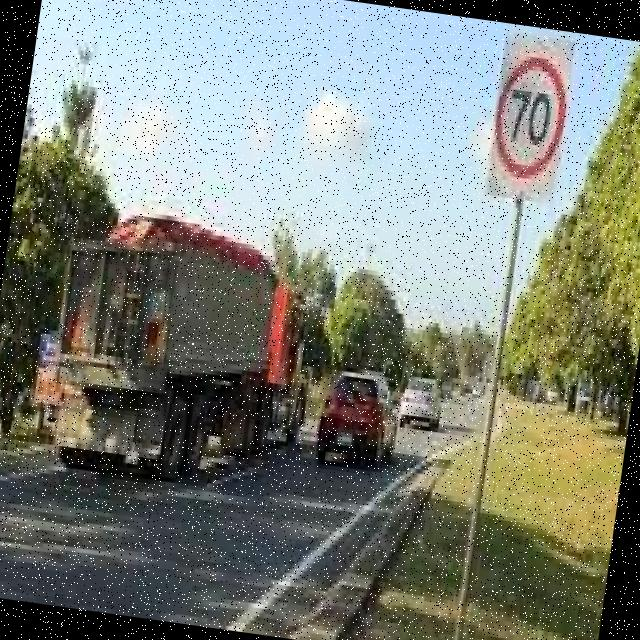speed_limit_70: (482, 49, 580, 188)
